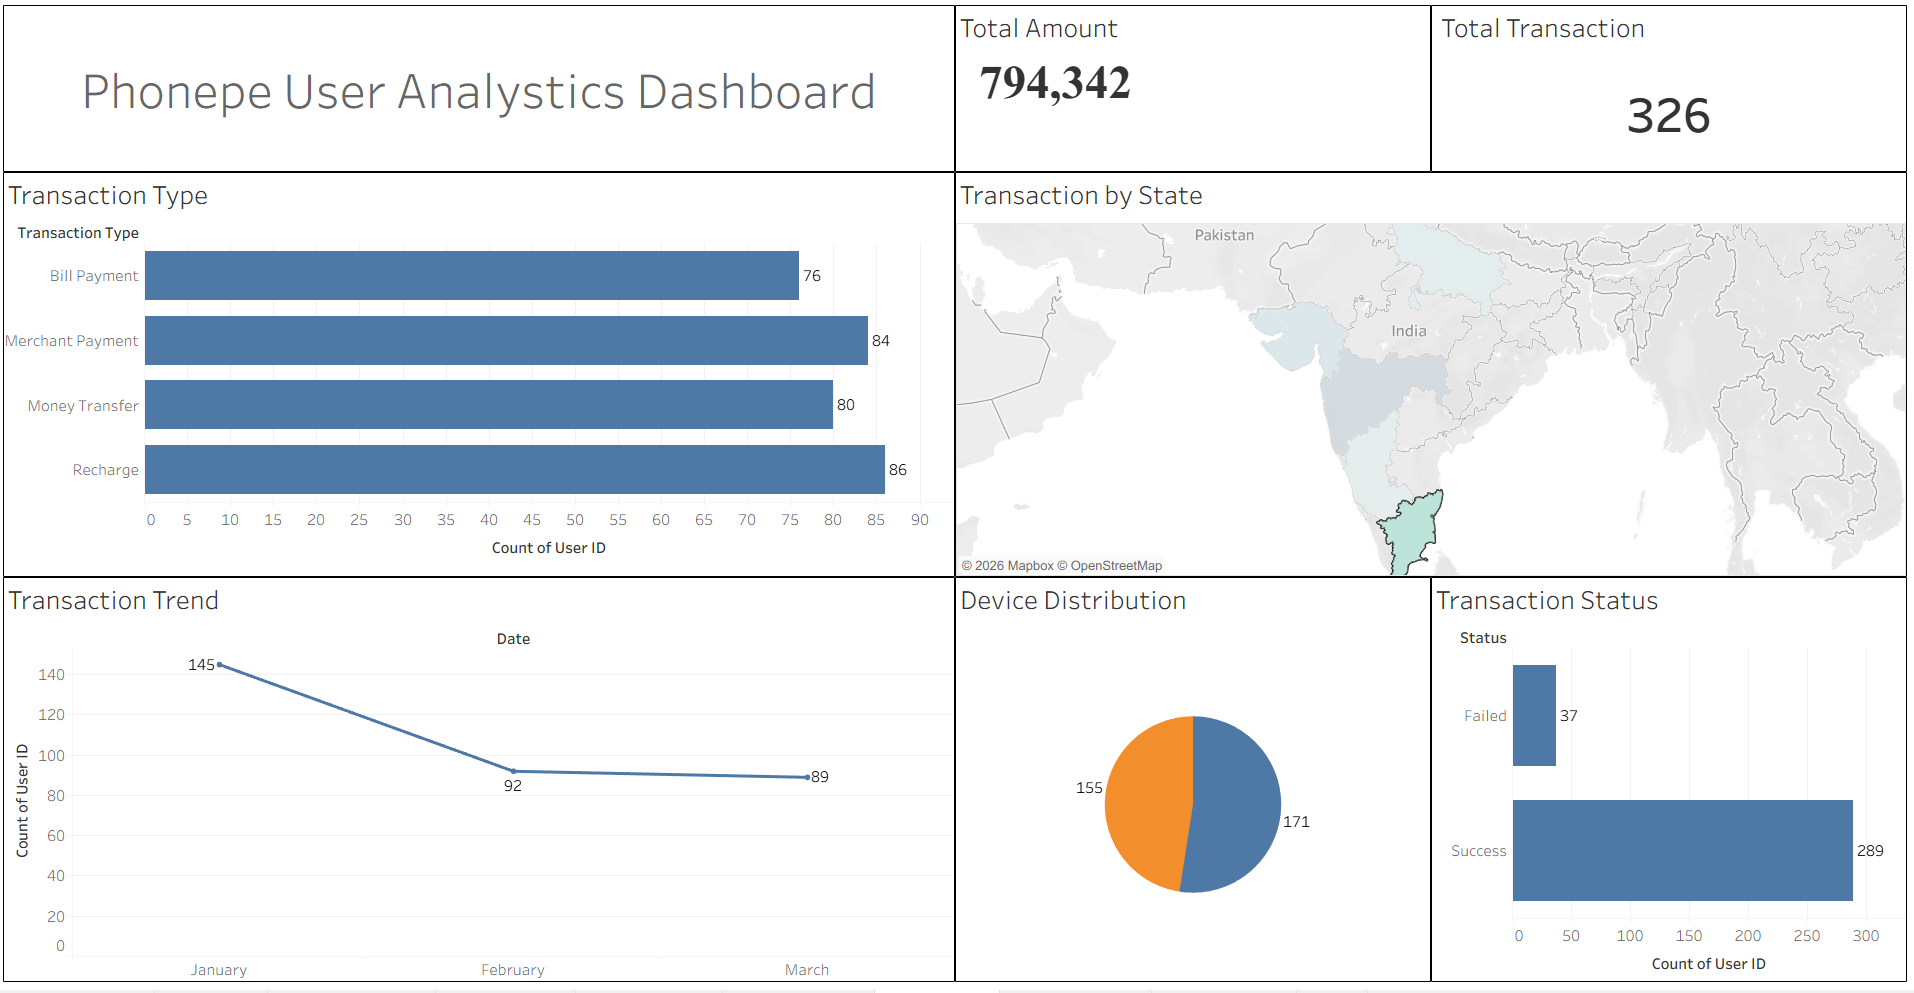

The page's visual inventory and layout, read from the dashboard file:
{"tool":"tableau","page":{"name":"Dashboard 1","canvas":[1000,1000],"units":"permille","ordinal":0},"visuals":[{"type":"text","box":[4.8,10,495.2,167.2]},{"type":"worksheet","title":"Total Amount","mark":"Automatic","box":[500,10,247.6,167.2]},{"type":"worksheet","title":" Total Transaction","mark":"Automatic","box":[747.6,10,247.6,167.2]},{"type":"worksheet","title":"Transaction Type","mark":"Automatic","rows":["Transaction_Type"],"cols":["User_ID"],"box":[4.8,177.2,495.2,406.3]},{"type":"worksheet","title":"Transaction by State ","mark":"Automatic","box":[500,177.2,495.2,406.3]},{"type":"worksheet","title":"Transaction Trend","mark":"Automatic","rows":["User_ID"],"cols":["Date"],"box":[4.8,583.6,495.2,406.4]},{"type":"worksheet","title":"Device Distribution","mark":"Pie","box":[500,583.6,247.6,406.4]},{"type":"worksheet","title":"Transaction Status","mark":"Automatic","rows":["Status"],"cols":["User_ID"],"box":[747.6,583.6,247.6,406.4]}]}

Visuals, with their boxes on the dashboard's canvas, which has no fixed pixel size, in thousandths of its width and height (x1, y1, x2, y2). These are canvas units, not pixel positions in the 1914x993 screenshot, which may show the page scaled, cropped or inside an application window:
text: crop(5, 10, 500, 177)
"Total Amount" worksheet: crop(500, 10, 748, 177)
" Total Transaction" worksheet: crop(748, 10, 995, 177)
"Transaction Type" worksheet: crop(5, 177, 500, 584)
"Transaction by State " worksheet: crop(500, 177, 995, 584)
"Transaction Trend" worksheet: crop(5, 584, 500, 990)
"Device Distribution" worksheet (Pie marks): crop(500, 584, 748, 990)
"Transaction Status" worksheet: crop(748, 584, 995, 990)
